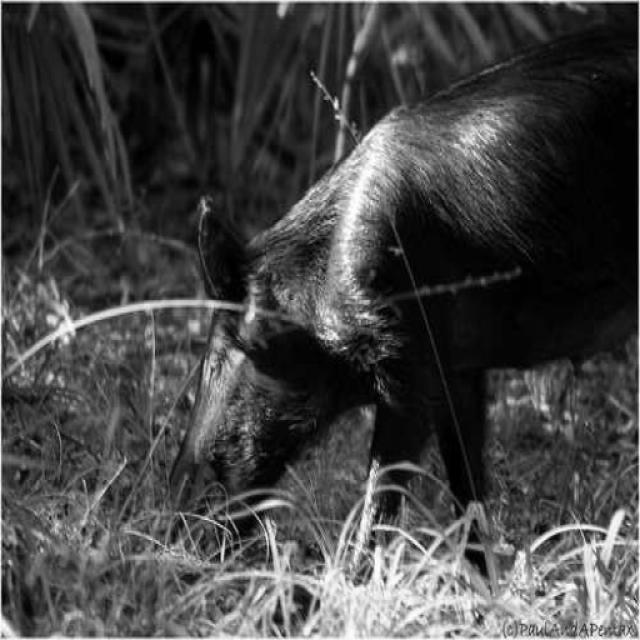WILD BOAR: (135, 14, 640, 566)
